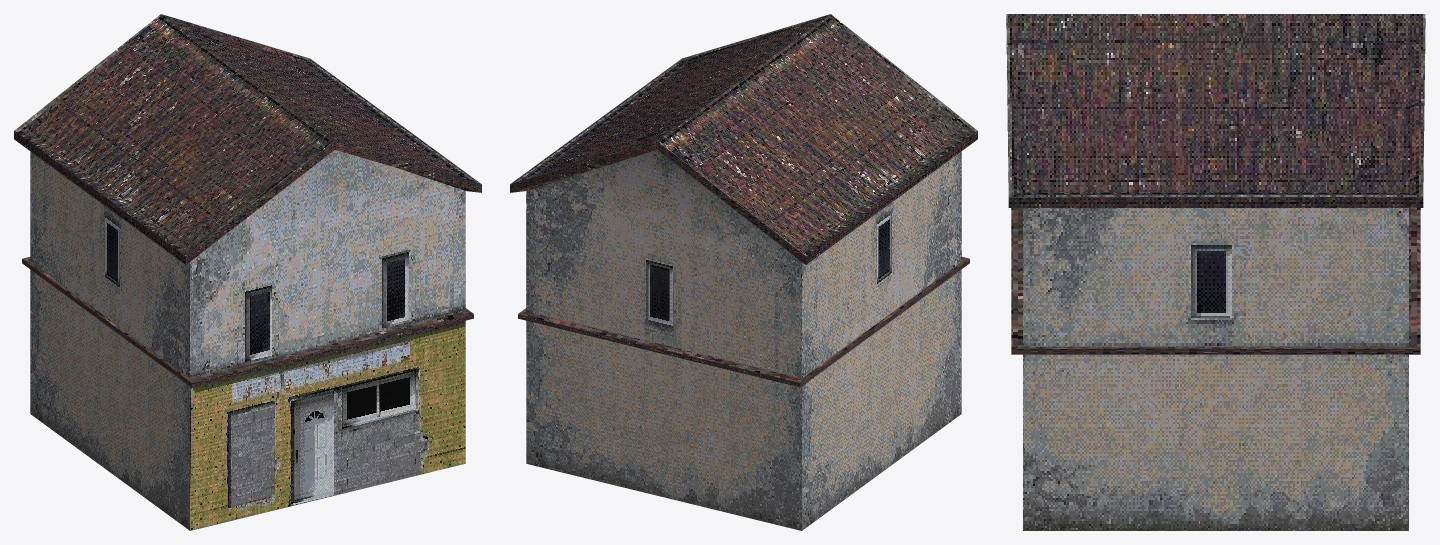
Rendered from psx_-_ozone_house.glb.
3 views of the same model, side by side, from view 1: azimuth 30°, elevation 25°; view 2: azimuth 150°, elevation 25°; view 3: azimuth 270°, elevation 25° (orthographic). The views are drawn at different scales.
Visible parts, largest first — view 1: pCube12_lambert11_0; view 2: pCube12_lambert11_0; view 3: pCube12_lambert11_0.
Boxes of the visible parts, <box> form: pCube12_lambert11_0: <box>14,14,481,530</box>; pCube12_lambert11_0: <box>510,14,977,530</box>; pCube12_lambert11_0: <box>1006,14,1425,530</box>.
Size of the model in its own units: 0.6419 by 0.7488 by 0.6525.
Materials: 1 (1 with a texture image).
